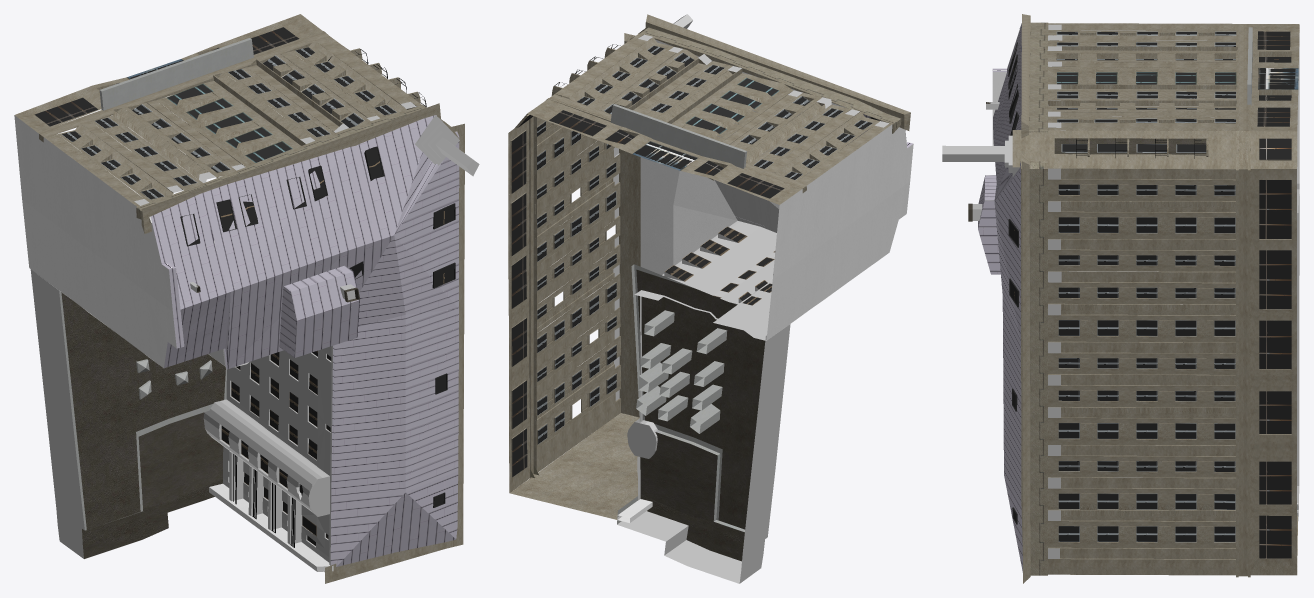
Rendered from Vabaduse_3-origo.obj.
3 views of the same model, side by side, from view 1: azimuth 30°, elevation 25°; view 2: azimuth 150°, elevation 25°; view 3: azimuth 270°, elevation 25° (orthographic). The views are drawn at different scales.
Parts seen in each view (by area): view 1: Vabaduse; view 2: Vabaduse; view 3: Vabaduse.
Boxes of the visible parts, x1=… form: Vabaduse: x1=14, y1=14, x2=479, y2=583; Vabaduse: x1=508, y1=14, x2=913, y2=583; Vabaduse: x1=942, y1=14, x2=1299, y2=583.
Bounding box in the file's own units: 31.25 × 44.5 × 29.84.
